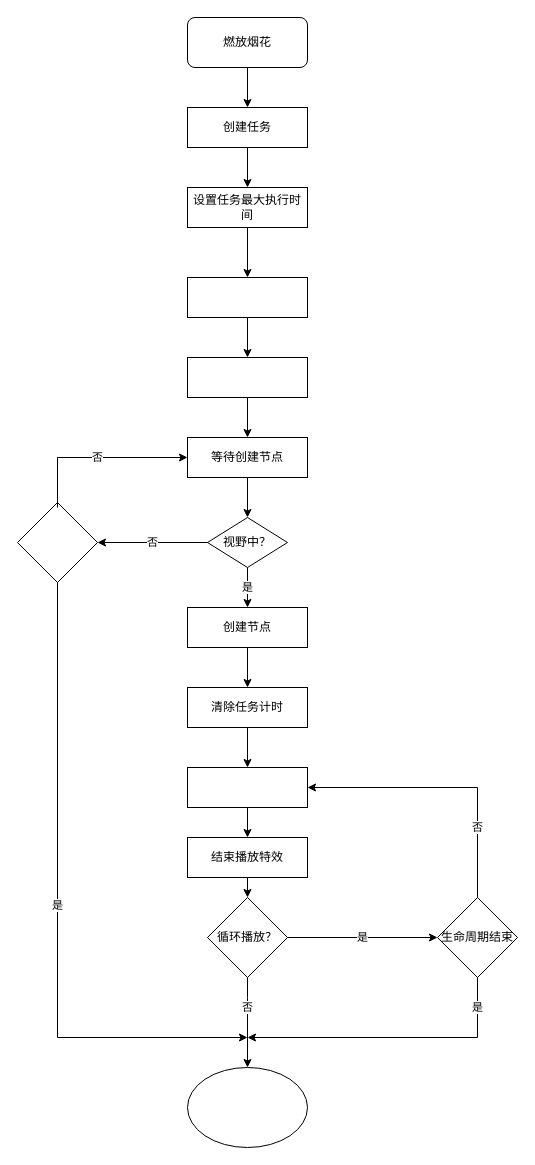
Some shapes in this 535 by 1165 pixel diagram are drawn without their labels. The shapes that lost their labels are listed below. From the top down, each one's centre as x and y in pixels, then its label:
point (247, 297): 添加任务队列
point (247, 377): 创建地图特效
point (57, 542): 任务计时结束
point (247, 787): 开始播放特效
point (247, 1107): 任务结束
